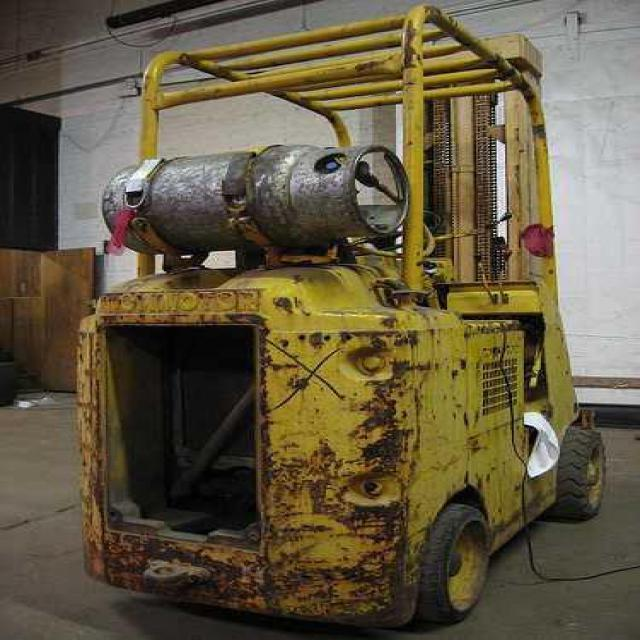forklift: (27, 18, 601, 639)
